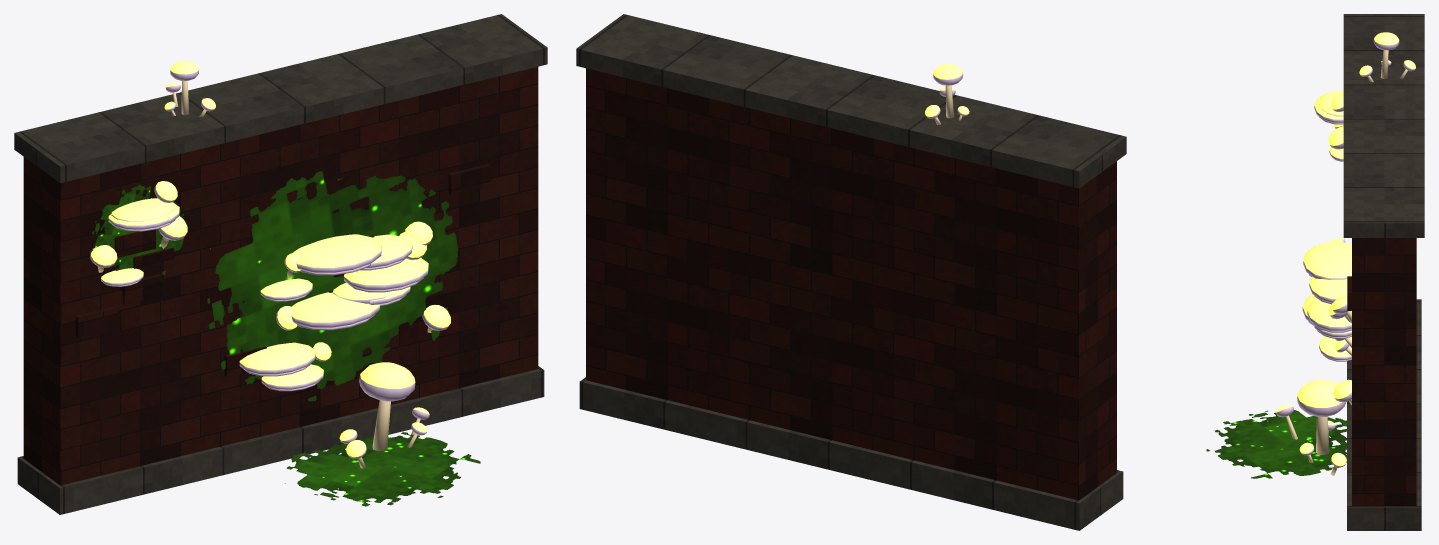
Rendered from pilz_wand.glb.
3 views of the same model, side by side, from view 1: azimuth 30°, elevation 25°; view 2: azimuth 150°, elevation 25°; view 3: azimuth 270°, elevation 25° (orthographic). The views are drawn at different scales.
Parts seen in each view (by area): view 1: pilz_wand; view 2: pilz_wand; view 3: pilz_wand.
Part boxes in pixels (bbox=[...]): pilz_wand: bbox=[14, 14, 547, 514]; pilz_wand: bbox=[576, 14, 1126, 530]; pilz_wand: bbox=[1206, 14, 1424, 530].
Bounding box in the file's own units: 3.06 × 2.43 × 1.66.
6 materials, 3 textured.
